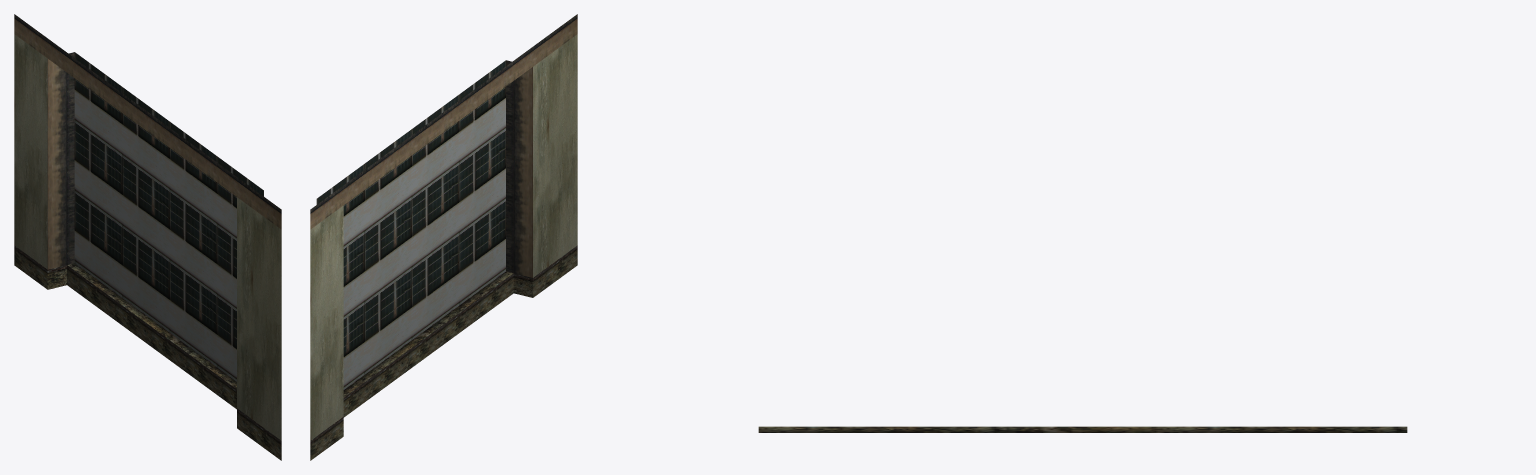
Rendered from M10_Z01_14_Tower03.glb.
3 views of the same model, side by side, from view 1: azimuth 30°, elevation 25°; view 2: azimuth 150°, elevation 25°; view 3: azimuth 270°, elevation 25° (orthographic). The views are drawn at different scales.
Visible parts, largest first — view 1: M10_Z01_14_TOWER03; view 2: M10_Z01_14_TOWER03; view 3: M10_Z01_14_TOWER03.
Boxes of the visible parts, x1,y1,x2,y2 form: M10_Z01_14_TOWER03: (14,14,281,460); M10_Z01_14_TOWER03: (310,14,577,460); M10_Z01_14_TOWER03: (758,426,1407,432).
Bounding box in the file's own units: 1.4 × 12.46 × 24.
4 materials, 4 textured.
